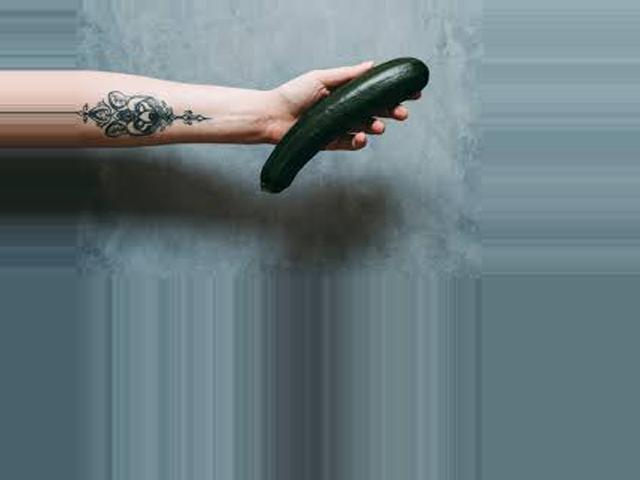cucumber: (261, 58, 429, 193)
